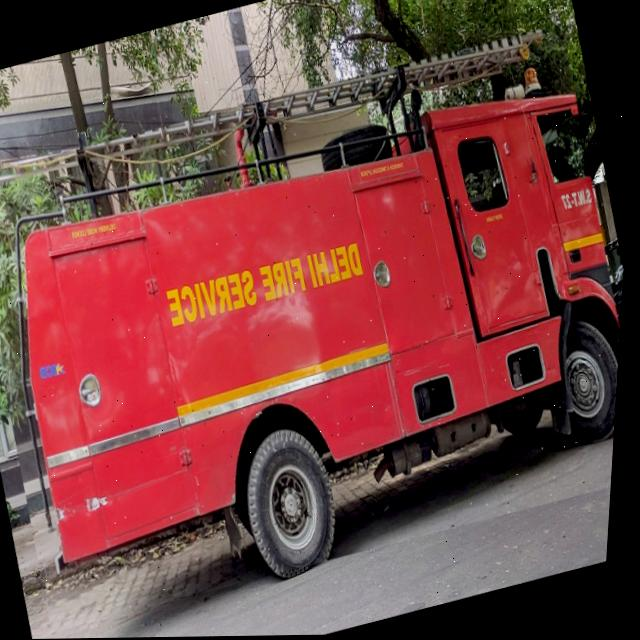Fire Truck: (0, 25, 639, 633)
